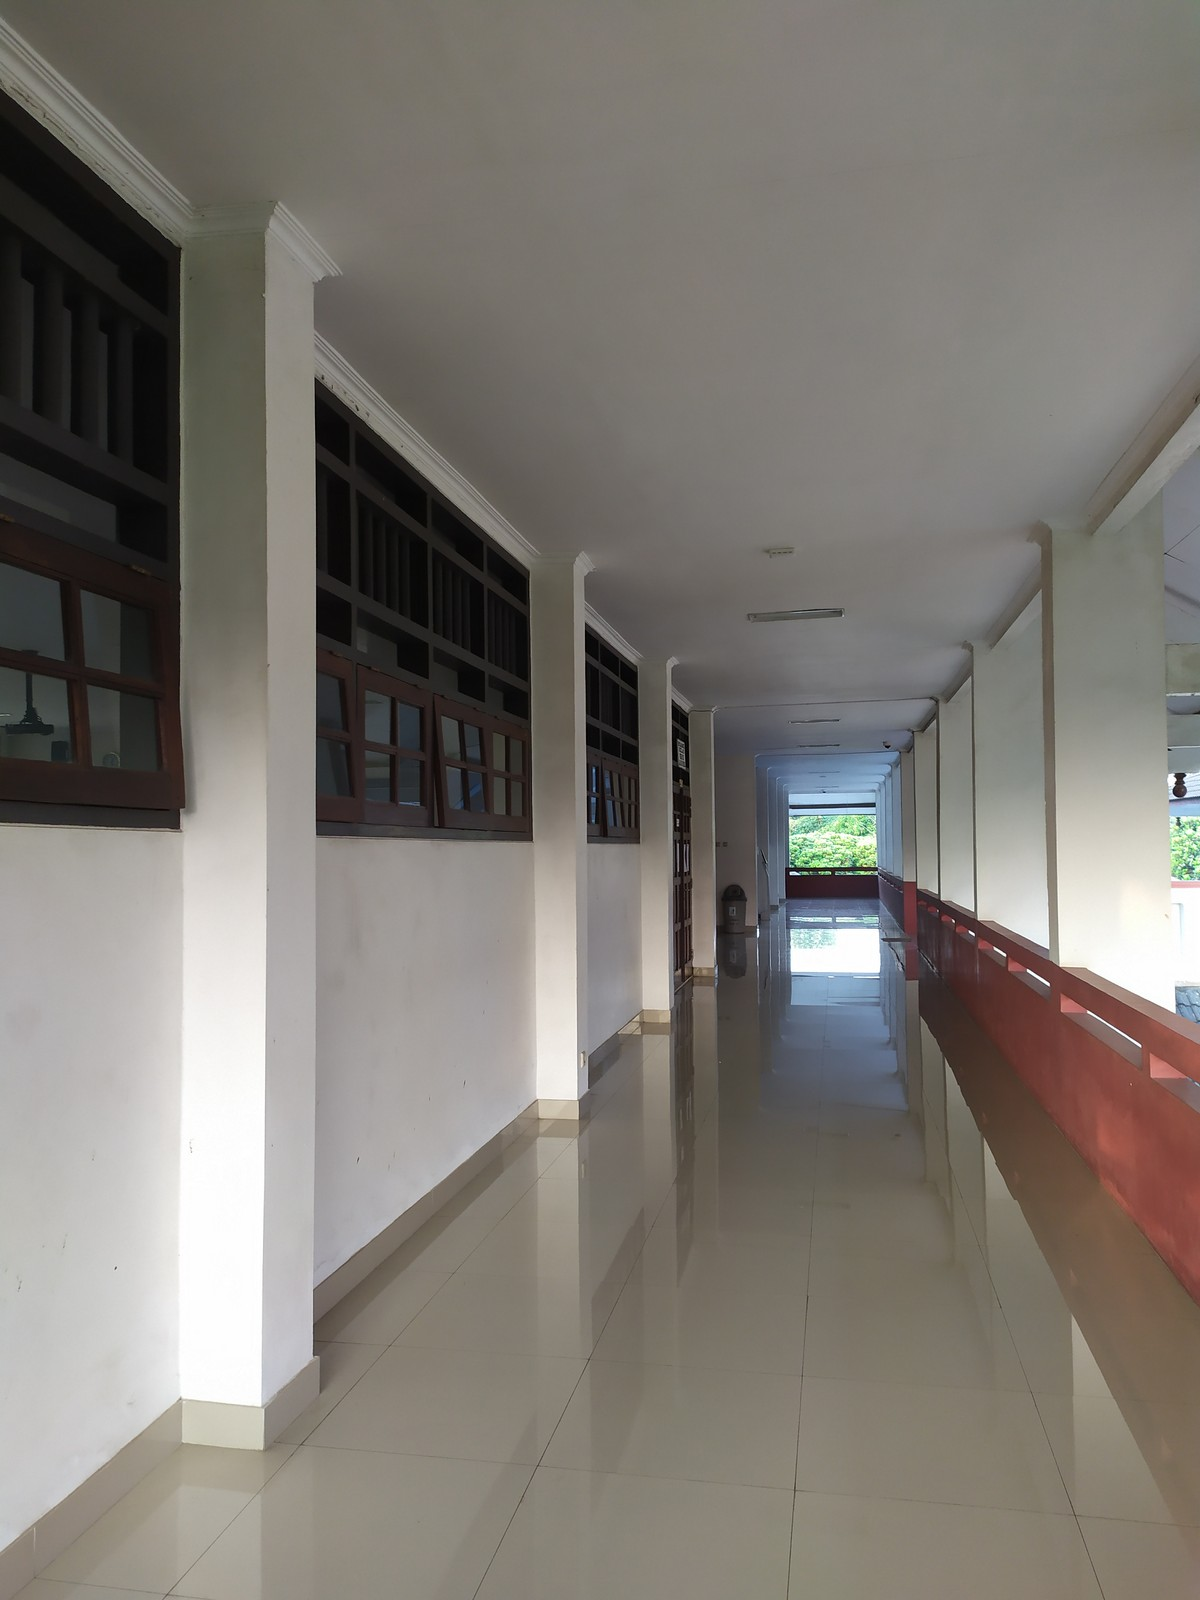concrete column: (170, 200, 339, 1460), (1034, 511, 1177, 979), (524, 543, 603, 1125), (632, 653, 682, 1029), (689, 703, 727, 976)
